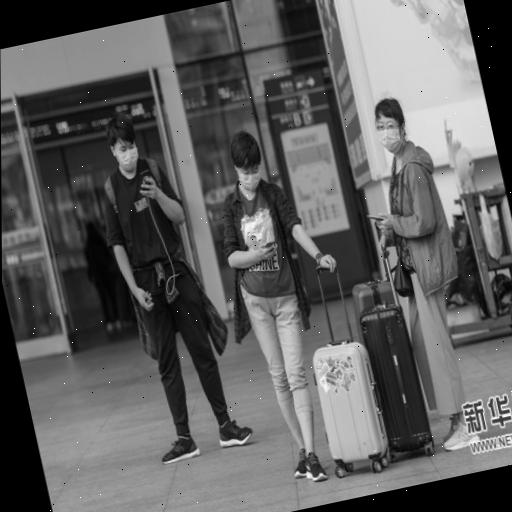mask: (97, 108, 146, 182), (364, 88, 413, 160), (222, 124, 269, 198)
